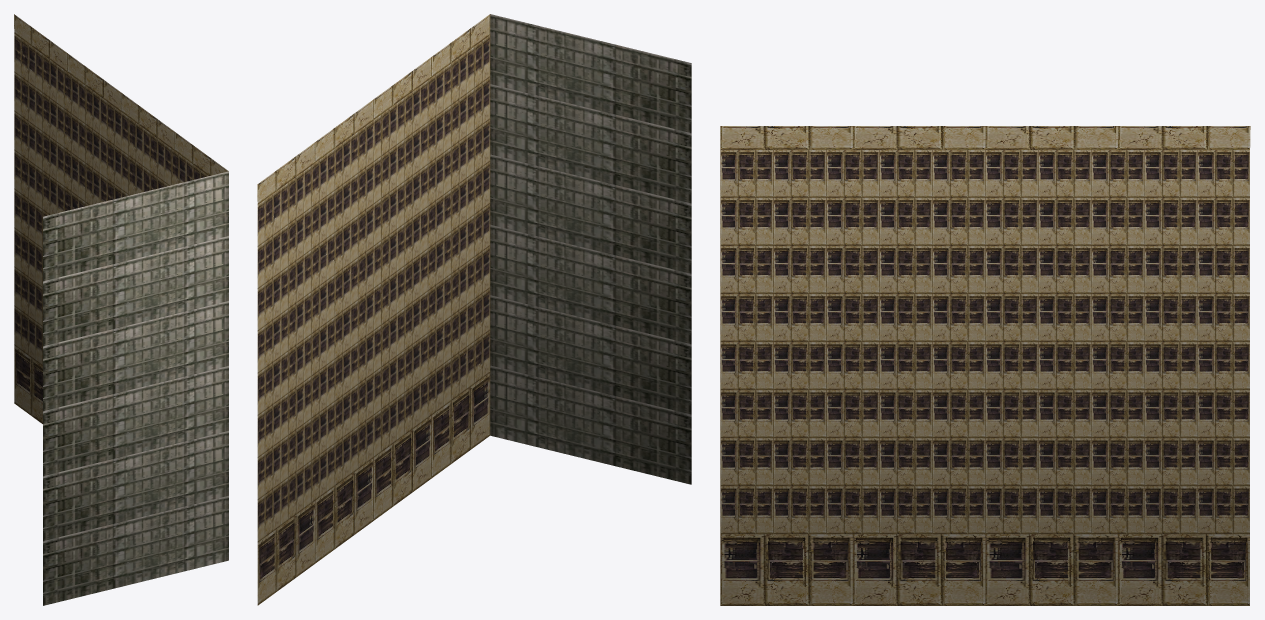
The model's file is M10_Z01_13_BombSiteC.glb.
3 views of the same model, side by side, from view 1: azimuth 30°, elevation 25°; view 2: azimuth 150°, elevation 25°; view 3: azimuth 270°, elevation 25° (orthographic). The views are drawn at different scales.
Parts seen in each view (by area): view 1: M10_Z01_13_BOMBSITEC; view 2: M10_Z01_13_BOMBSITEC; view 3: M10_Z01_13_BOMBSITEC.
Part boxes in pixels (bbox=[...]): M10_Z01_13_BOMBSITEC: bbox=[14, 14, 228, 605]; M10_Z01_13_BOMBSITEC: bbox=[257, 14, 691, 605]; M10_Z01_13_BOMBSITEC: bbox=[720, 126, 1250, 605].
Bounding box in the file's own units: 10 × 20 × 20.02.
Materials: 2 (2 with a texture image).
